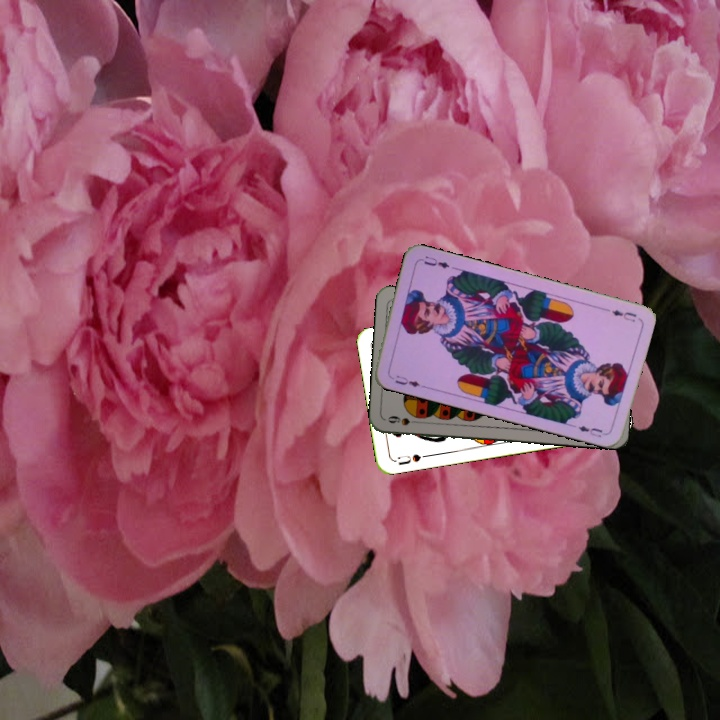EU: (391, 371, 423, 390), (608, 306, 639, 325)
S9: (384, 412, 424, 428)
SU: (390, 450, 431, 468)
